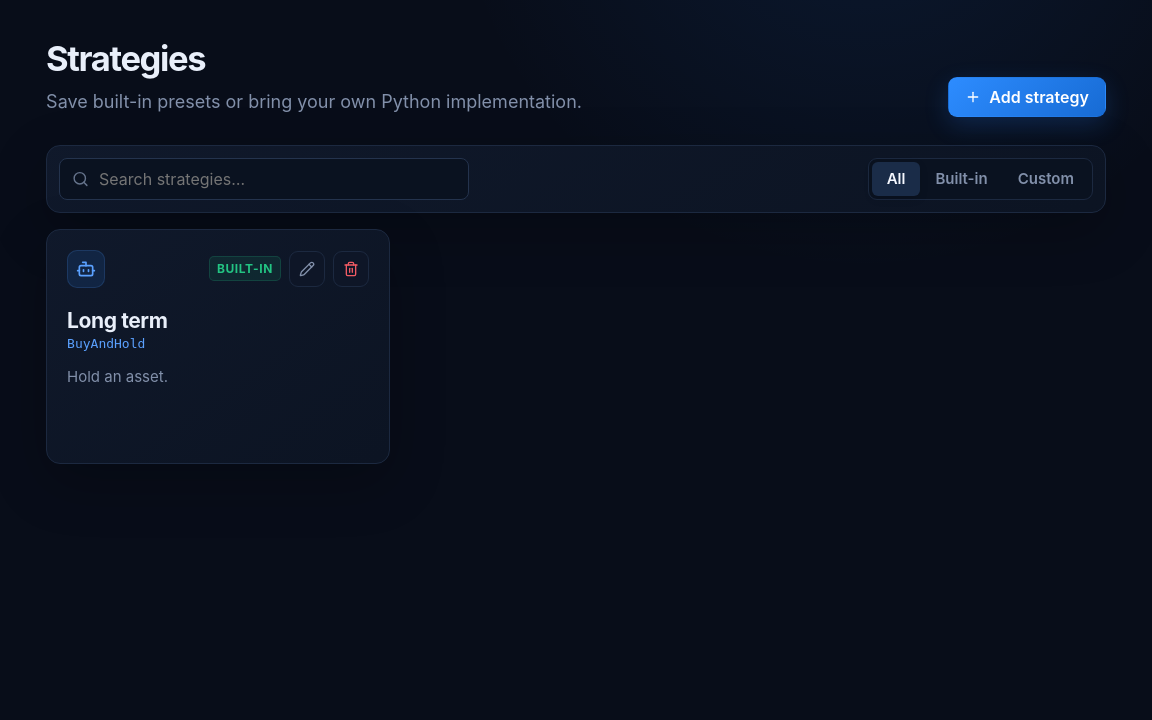
Test case: library page › updates the default name when another built-in class is selected
Click the button "Add strategy". click: (1027, 97)
box: [948,77,1106,117]
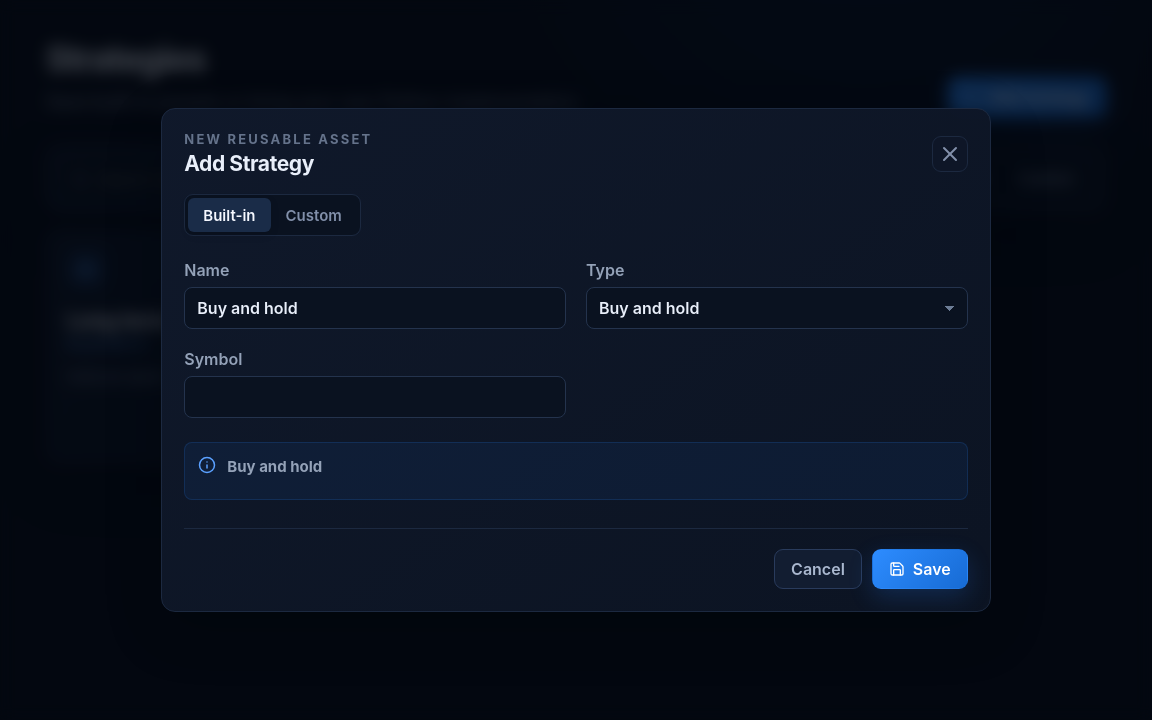
Select "Adaptive RSI" in the dropdown labelled "Type". click: (777, 308)
box: [586,287,968,329]
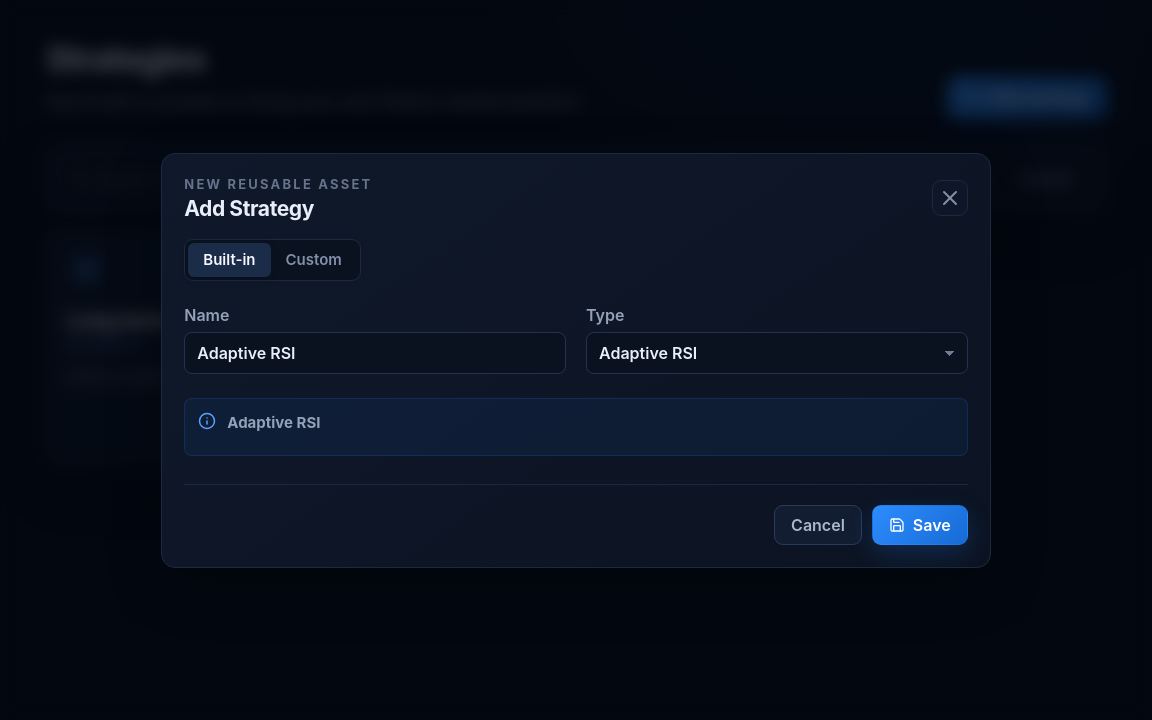
Now the field labelled "Name" holds "Adaptive RSI", box [184,332,566,374]
